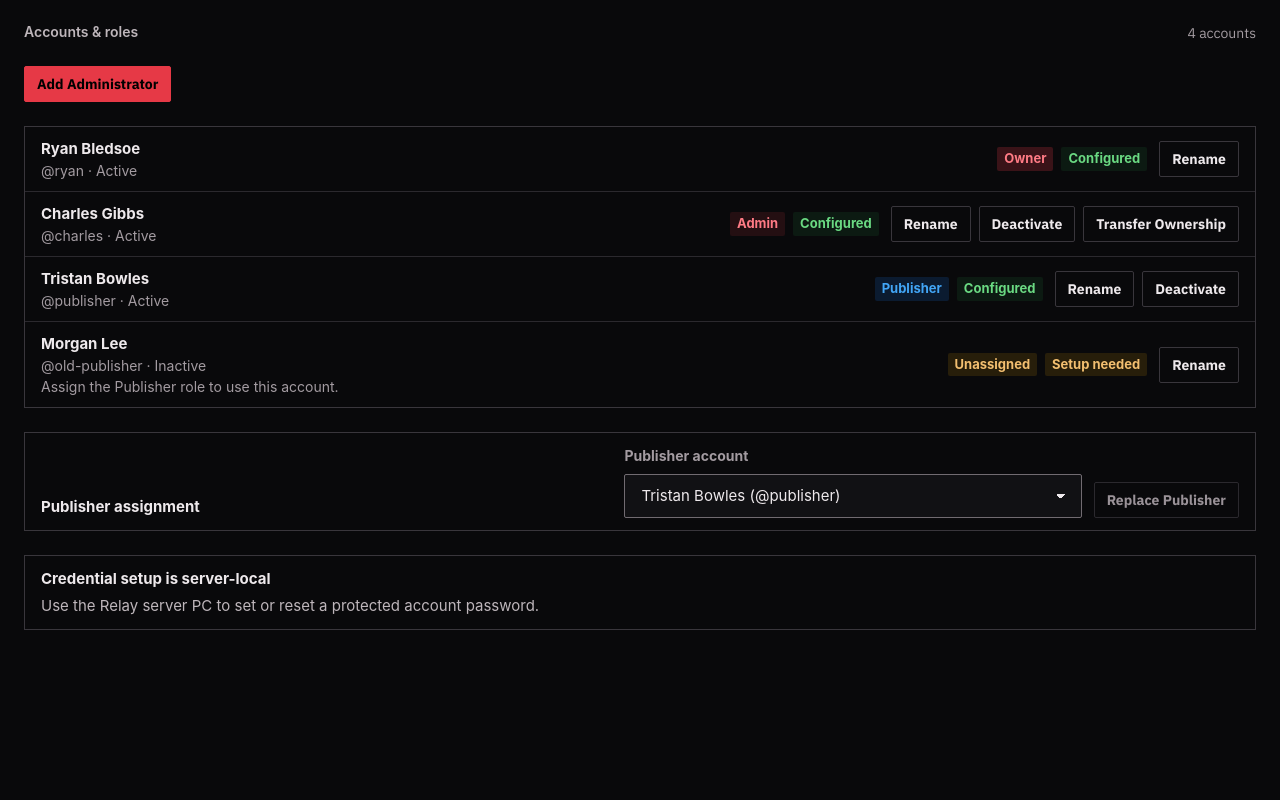
Test: RoleAccountsPanel › shows the reason a protected change was refused instead of a generic failure
This screenshot has width=1280, height=800.
Click the button "Add Administrator": (98, 84) [24, 66, 171, 102]
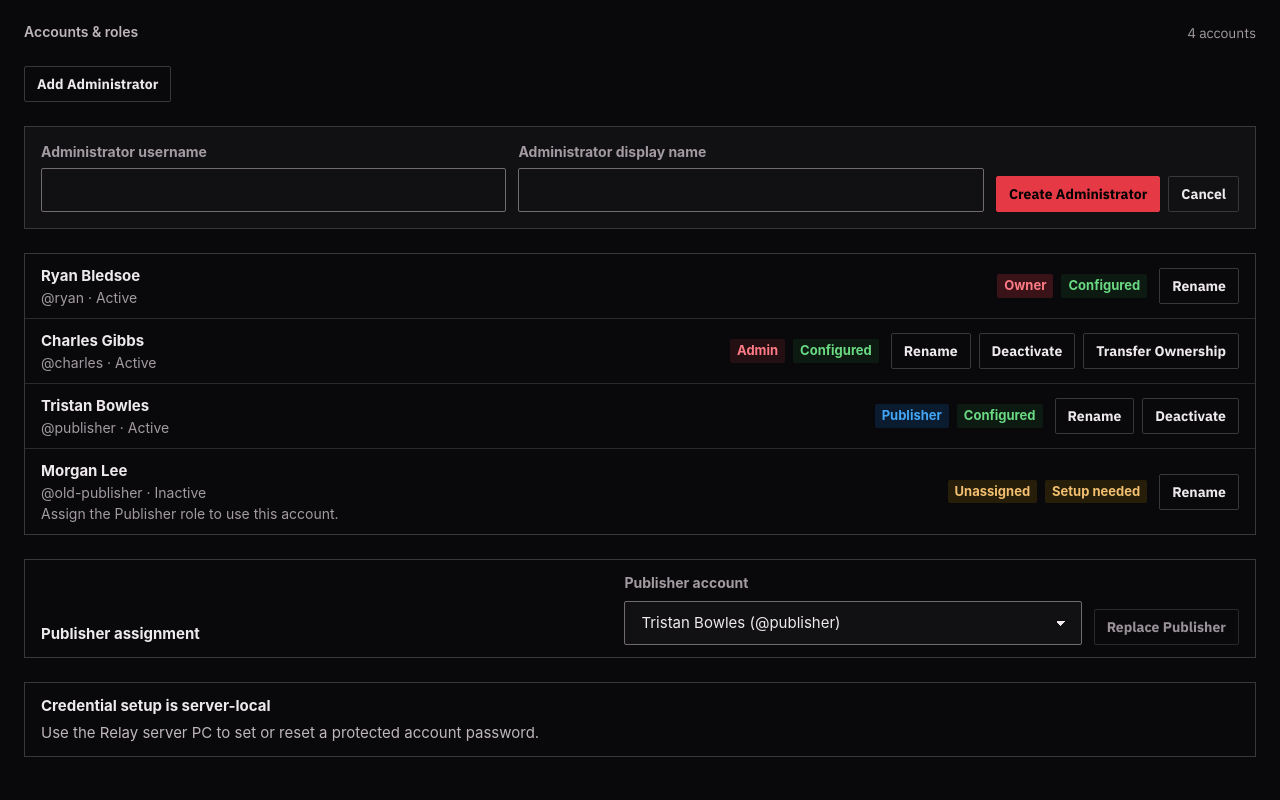
In the field labelled "Administrator username": (274, 190) [41, 168, 506, 212], type "charles"
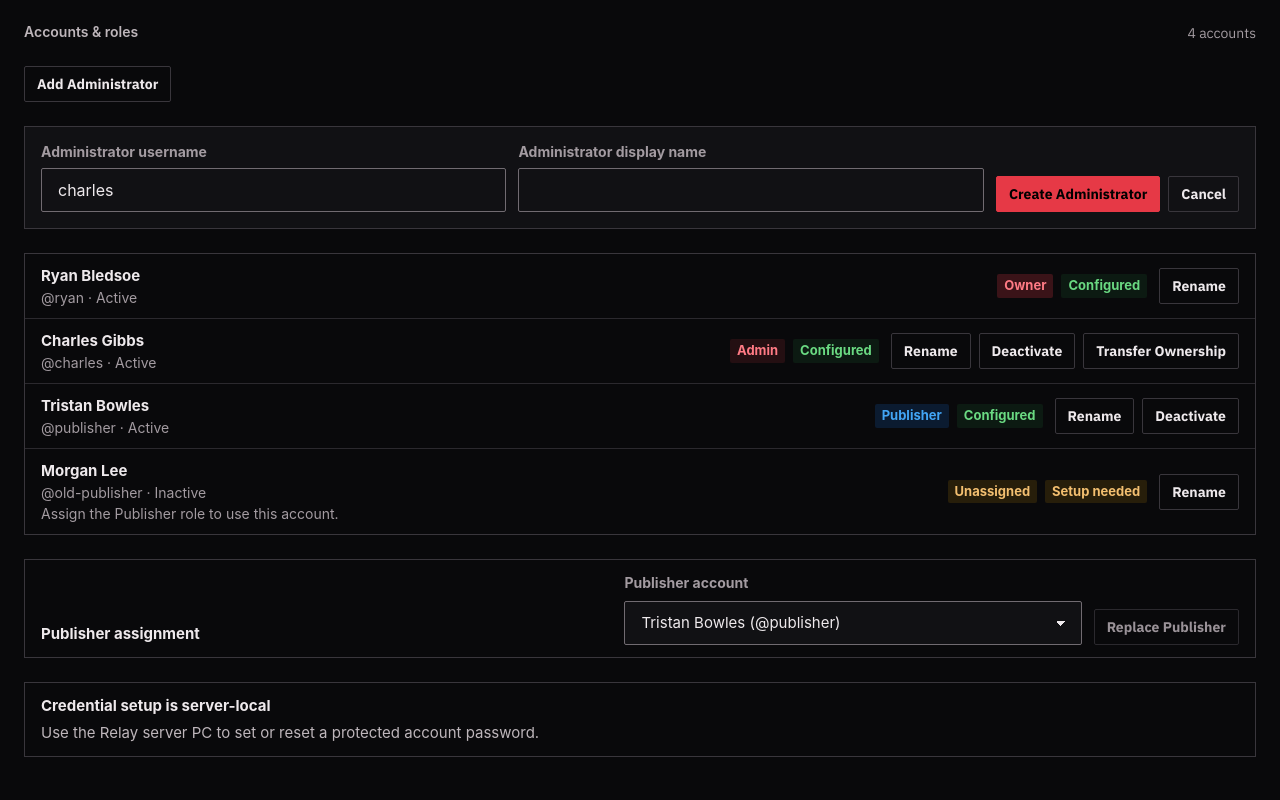
In the field labelled "Administrator display name": (751, 190) [518, 168, 984, 212], type "Duplicate Charles"
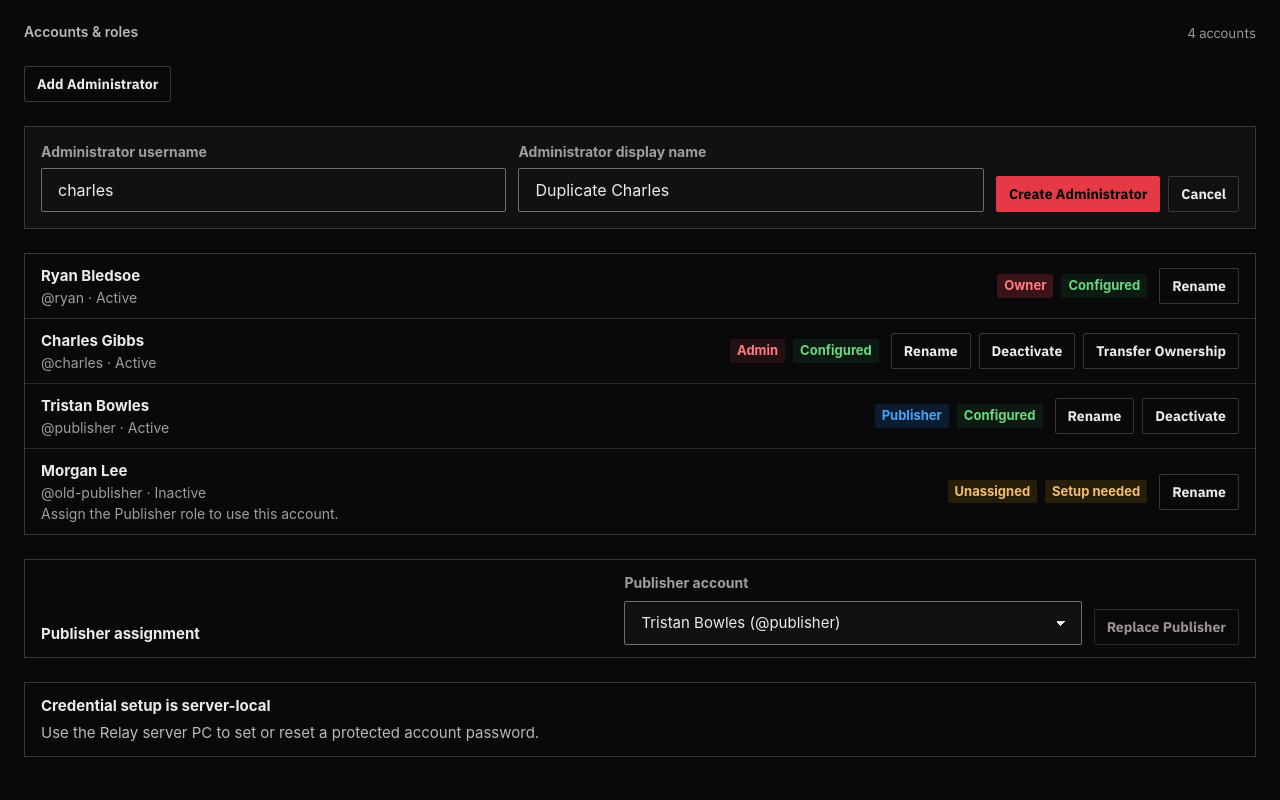
Click the button "Create Administrator": (1078, 194) [996, 176, 1160, 212]
(page scrolled)
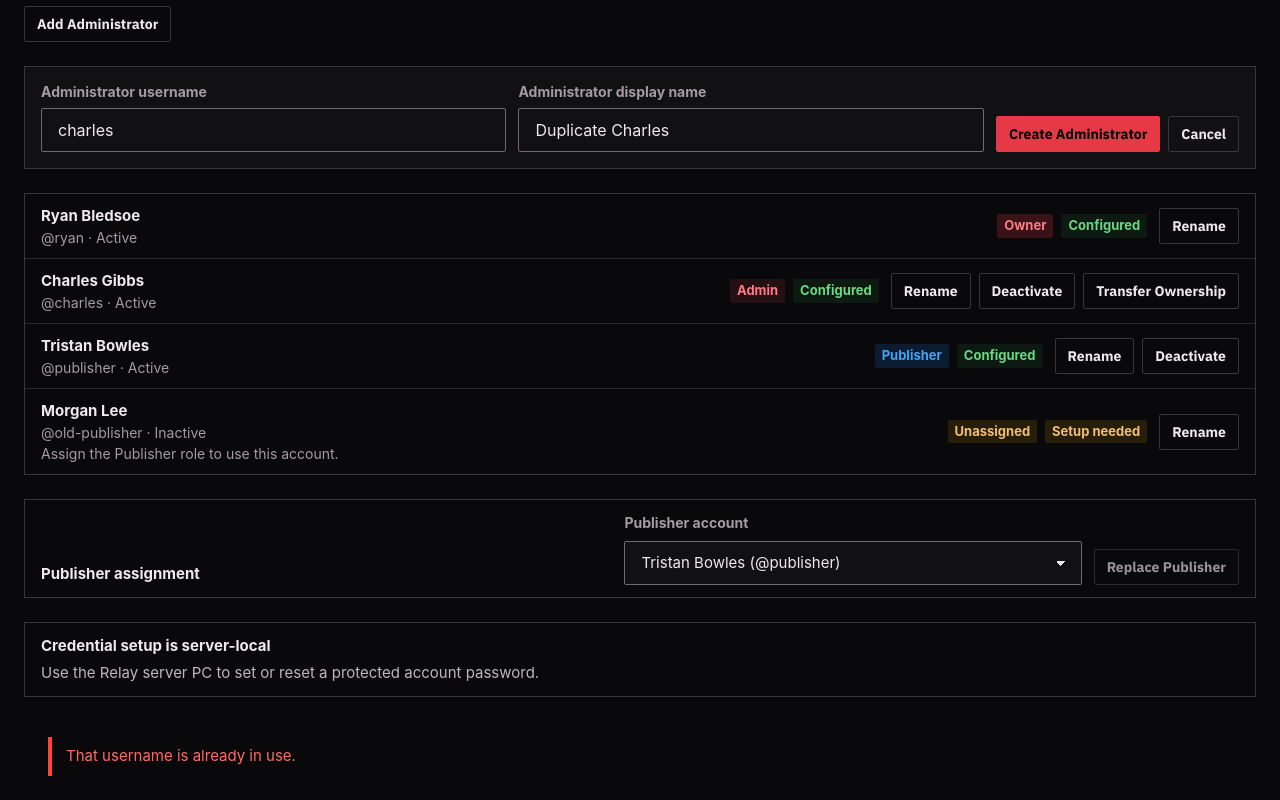
Result: the message reads "That username is already in use." at [66, 746, 296, 765]
